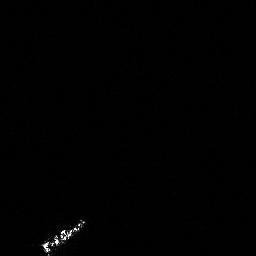ship: (40, 217, 87, 256)
